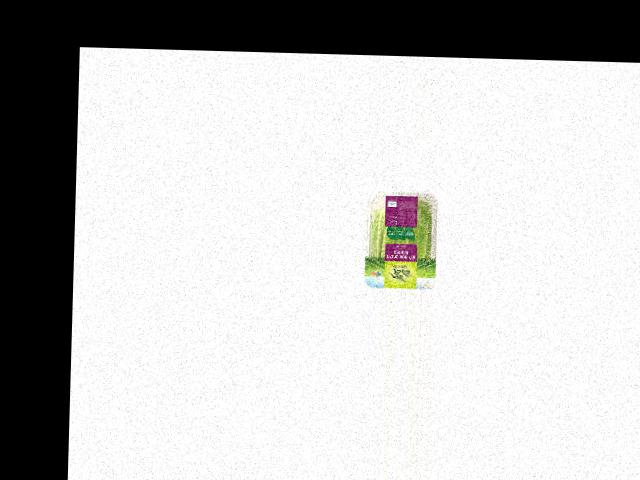lettuce: (363, 190, 438, 282)
